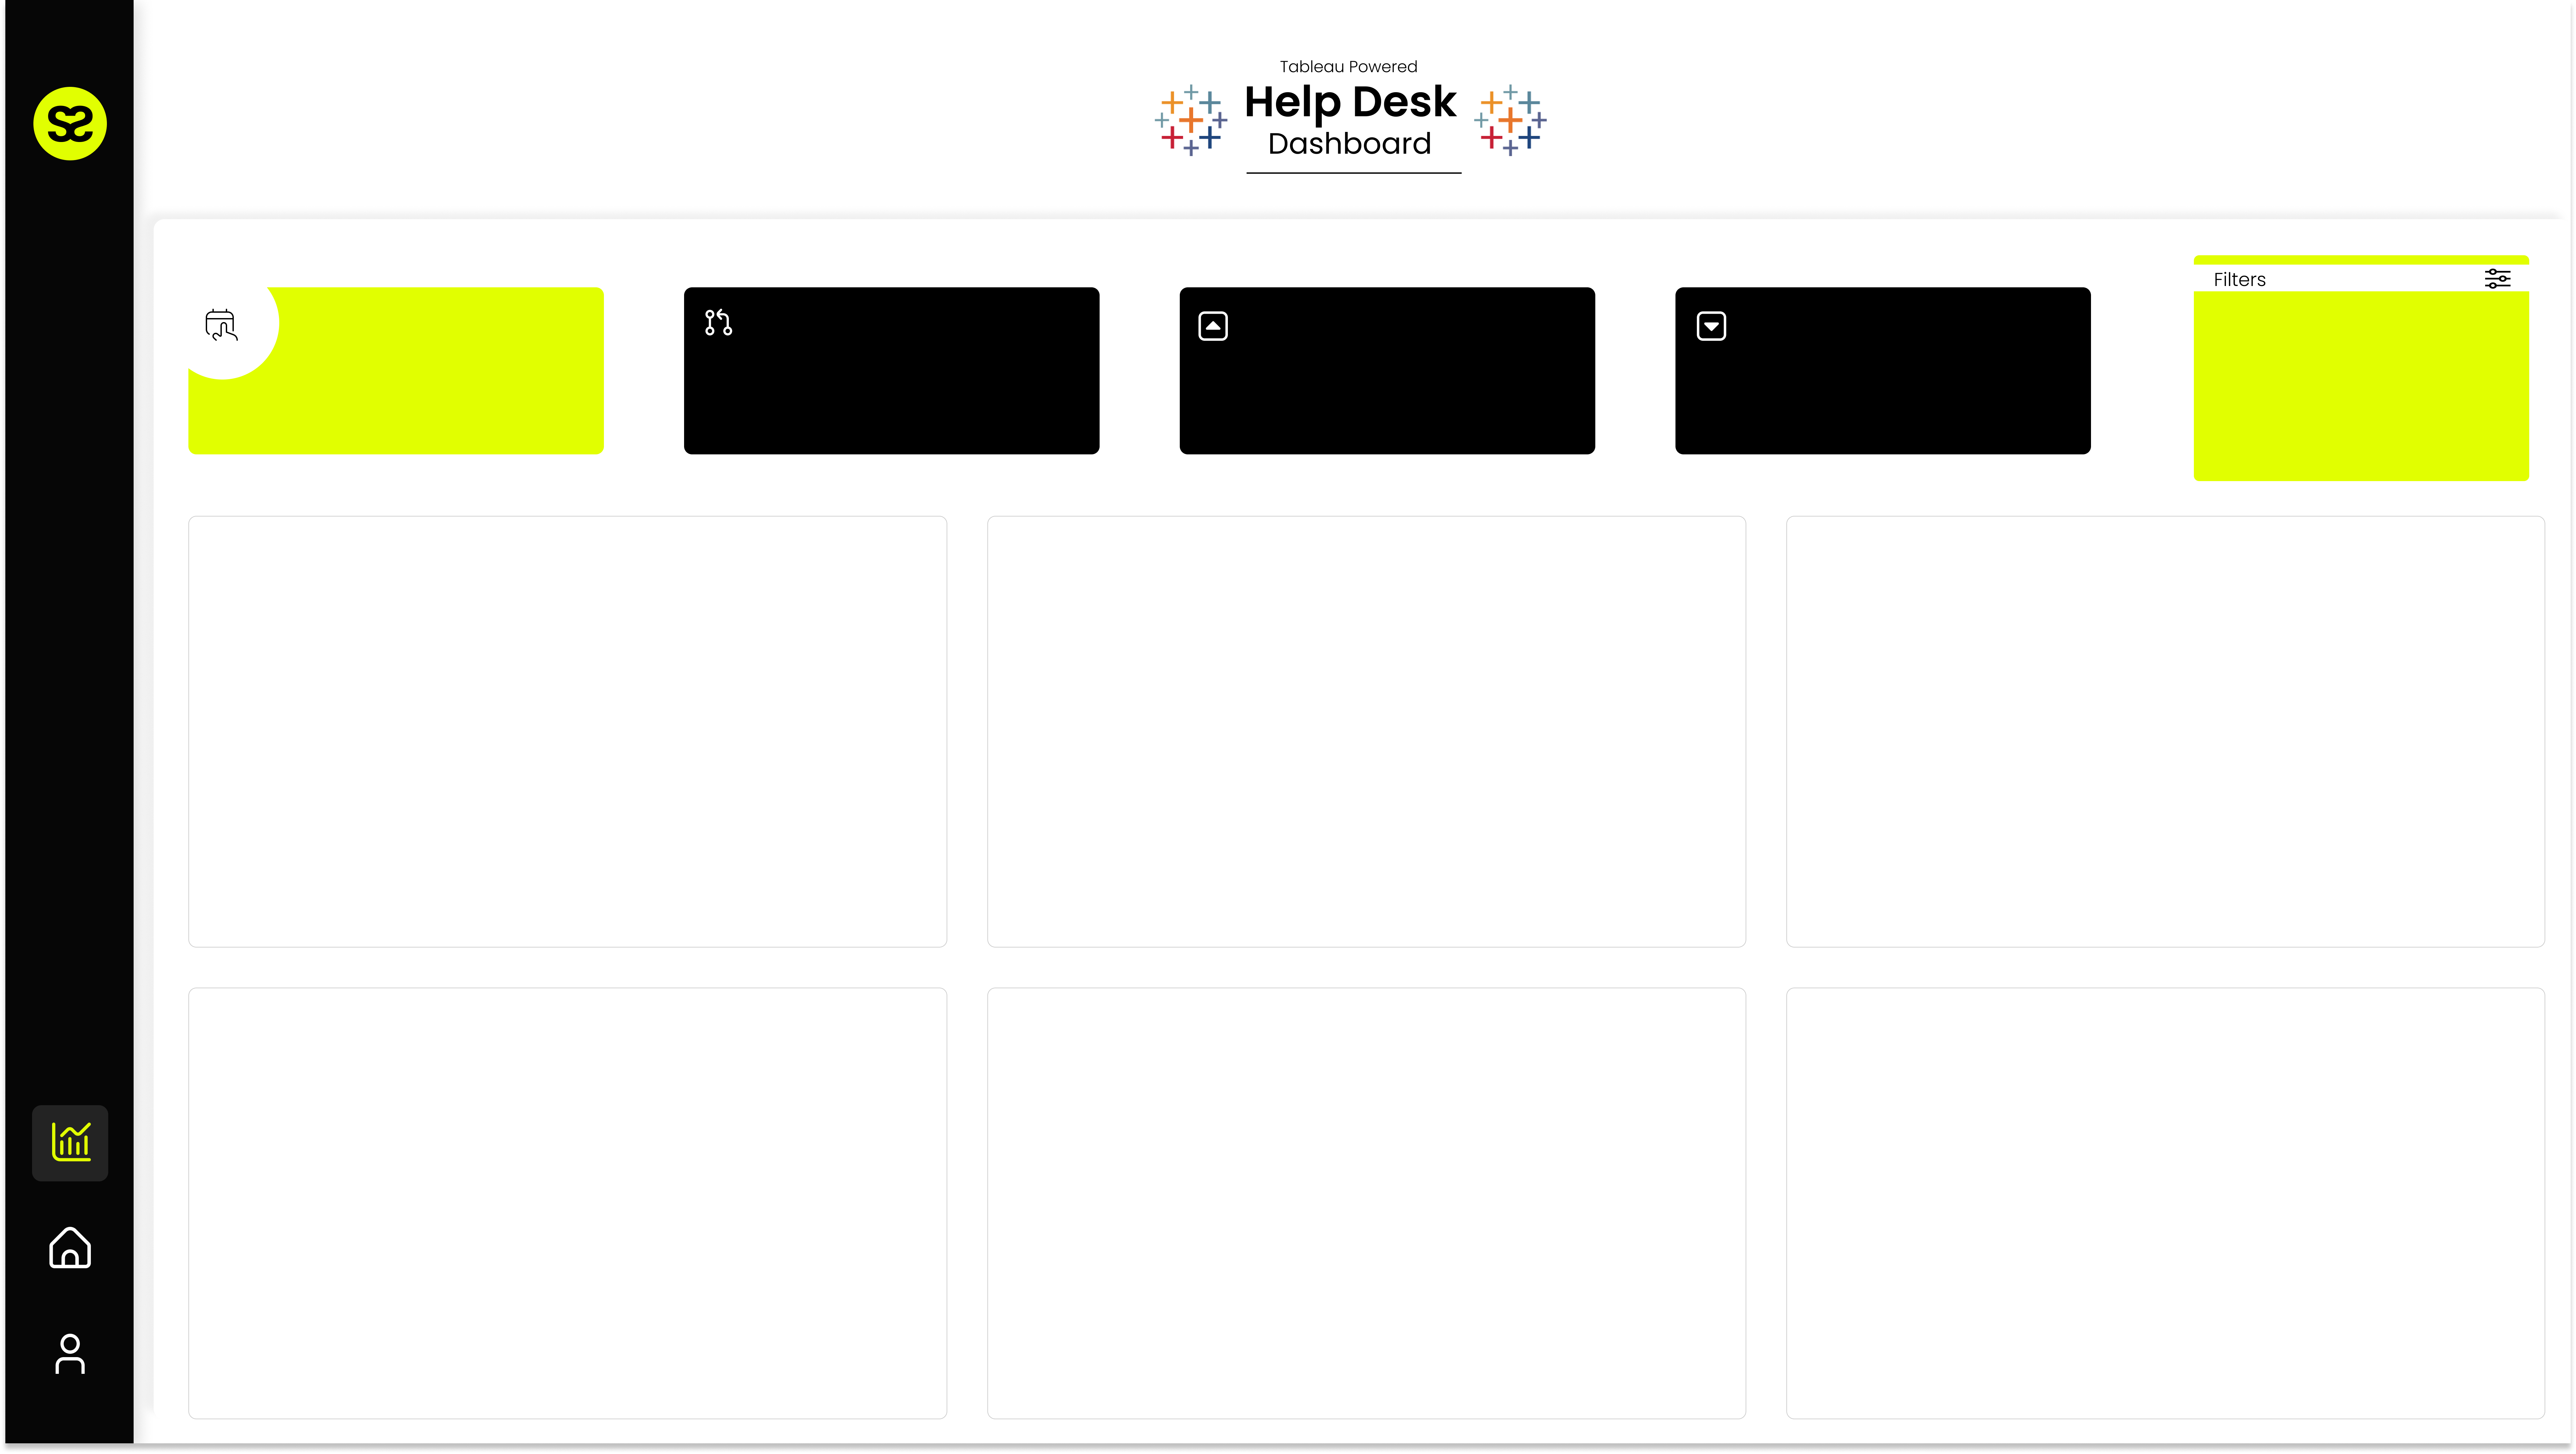

This screenshot's page, from the dashboard's own definition file:
{"tool":"tableau","page":{"name":"Dashboard 1","canvas":[1920,1080],"ordinal":0},"visuals":[{"type":"image","param":"Image/Tablue Dashboard -1.png","box":[8,8,1904,1064]},{"type":"dashboard-object","box":[1672,70,164,52]},{"type":"filter","title":"Satisfied","param":"[federated.014lvfq0gvesqk14qfeje18m9ve7].[none:statisfaction:nk]","box":[1650,241,160,119]},{"type":"worksheet","title":"Sheet 8","mark":"Automatic","box":[222,242,208,84]},{"type":"worksheet","title":"Sheet 9","mark":"Automatic","box":[820,262,399,65]},{"type":"worksheet","title":"Sheet 10","mark":"Automatic","box":[1230,264,302,59]},{"type":"worksheet","title":"Sheet 6","mark":"Automatic","box":[528,265,257,62]},{"type":"filter","title":"Category Issue","param":"[federated.014lvfq0gvesqk14qfeje18m9ve7].[mn:created_date:ok]","box":[1650,296,160,66]},{"type":"worksheet","title":"Total Ticket","mark":"Line","rows":["Calculation_1029635485391097856"],"cols":["created_date"],"box":[154,392,538,301]},{"type":"worksheet","title":"Issue/satisfied","mark":"Bar","rows":["Calculation_1029635485391097856"],"cols":["issue_category"],"box":[746,403,477,280]},{"type":"dashboard-object","box":[1245,403,24,24]},{"type":"legend","title":"Issue/satisfied","param":"[federated.014lvfq0gvesqk14qfeje18m9ve7].[none:statisfaction:nk]","box":[1094,404,173,107]},{"type":"worksheet","title":"Satisfied","mark":"Bar","rows":["statisfaction"],"cols":["statisfaction_score"],"box":[1318,405,535,289]},{"type":"worksheet","title":"Ticket Per day","mark":"Bar","rows":["Calculation_1029635485391097856"],"cols":["created_date"],"box":[152,736,544,302]},{"type":"worksheet","title":"Category Issue","mark":"Automatic","rows":["ticket_number"],"cols":["created_date"],"box":[1316,737,537,299]},{"type":"legend","title":"Category Issue","param":"[federated.014lvfq0gvesqk14qfeje18m9ve7].[none:issue_category:nk]","box":[1584,740,268,106]},{"type":"legend","title":"Sheet 3","param":"[federated.014lvfq0gvesqk14qfeje18m9ve7].[none:ticket status:nk]","box":[1062,742,208,121]},{"type":"worksheet","title":"Sheet 3","mark":"Bar","rows":["Calculation_1029635485391097856"],"cols":["ticket status"],"box":[739,743,533,293]},{"type":"dashboard-object","box":[1244,744,24,24]},{"type":"dashboard-object","box":[1822,745,24,24]}]}

Visuals, with their boxes on the page's 1920x1080 design canvas (x1, y1, x2, y2). These are canvas units, not pixel positions in the 2576x1454 screenshot, which may show the page scaled, cropped or inside an application window:
image: box(8, 8, 1912, 1072)
dashboard-object: box(1672, 70, 1836, 122)
"Satisfied" filter: box(1650, 241, 1810, 360)
"Sheet 8" worksheet: box(222, 242, 430, 326)
"Sheet 9" worksheet: box(820, 262, 1219, 327)
"Sheet 10" worksheet: box(1230, 264, 1532, 323)
"Sheet 6" worksheet: box(528, 265, 785, 327)
"Category Issue" filter: box(1650, 296, 1810, 362)
"Total Ticket" worksheet (Line marks): box(154, 392, 692, 693)
"Issue/satisfied" worksheet (Bar marks): box(746, 403, 1223, 683)
dashboard-object: box(1245, 403, 1269, 427)
"Issue/satisfied" legend: box(1094, 404, 1267, 511)
"Satisfied" worksheet (Bar marks): box(1318, 405, 1853, 694)
"Ticket Per day" worksheet (Bar marks): box(152, 736, 696, 1038)
"Category Issue" worksheet: box(1316, 737, 1853, 1036)
"Category Issue" legend: box(1584, 740, 1852, 846)
"Sheet 3" legend: box(1062, 742, 1270, 863)
"Sheet 3" worksheet (Bar marks): box(739, 743, 1272, 1036)
dashboard-object: box(1244, 744, 1268, 768)
dashboard-object: box(1822, 745, 1846, 769)
